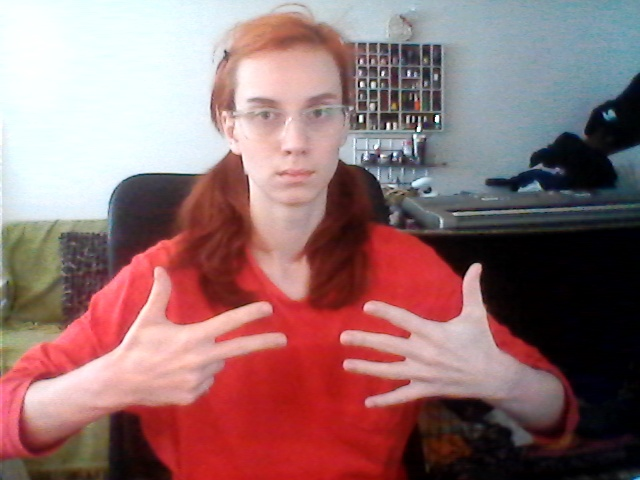osem: (134, 262, 504, 416)
